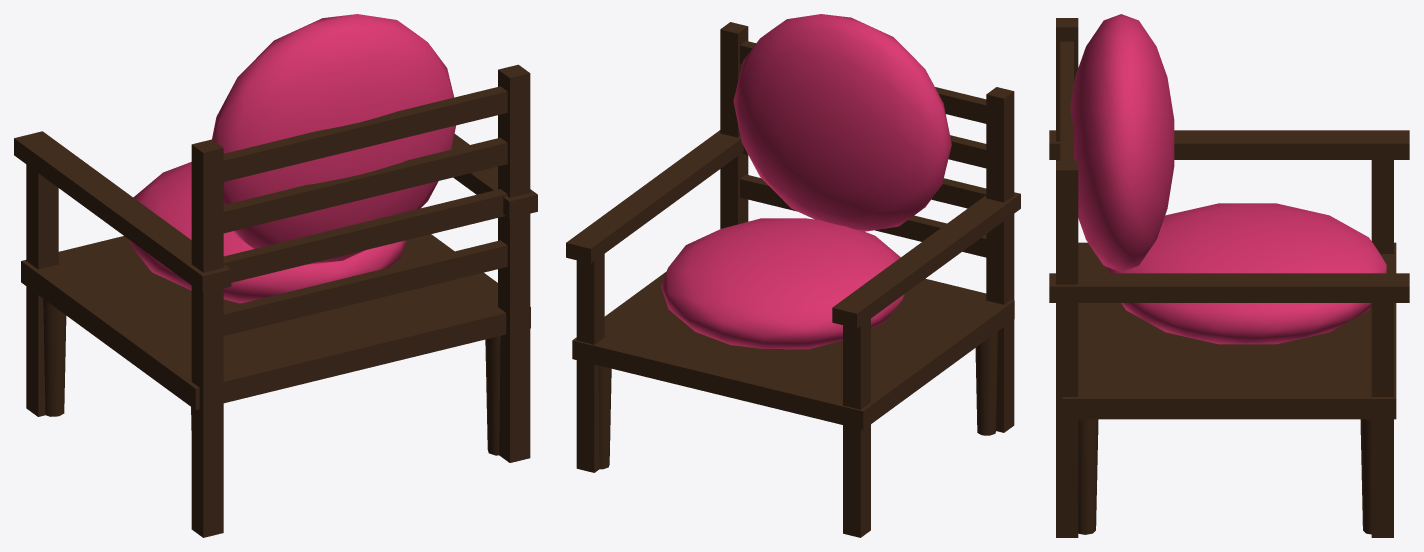
The model's file is armchair-pink.glb.
3 renders of one model, left to right at view 1: azimuth 30°, elevation 25°; view 2: azimuth 150°, elevation 25°; view 3: azimuth 270°, elevation 25°, orthographic. The views are drawn at different scales.
Visible parts, largest first — view 1: armchair-pink; view 2: armchair-pink; view 3: armchair-pink.
Boxes of the visible parts, bbox=[...] form: armchair-pink: bbox=[14, 14, 537, 537]; armchair-pink: bbox=[566, 14, 1020, 537]; armchair-pink: bbox=[1049, 14, 1409, 537].
Size of the model in its own units: 0.82 by 1.06 by 0.8.
